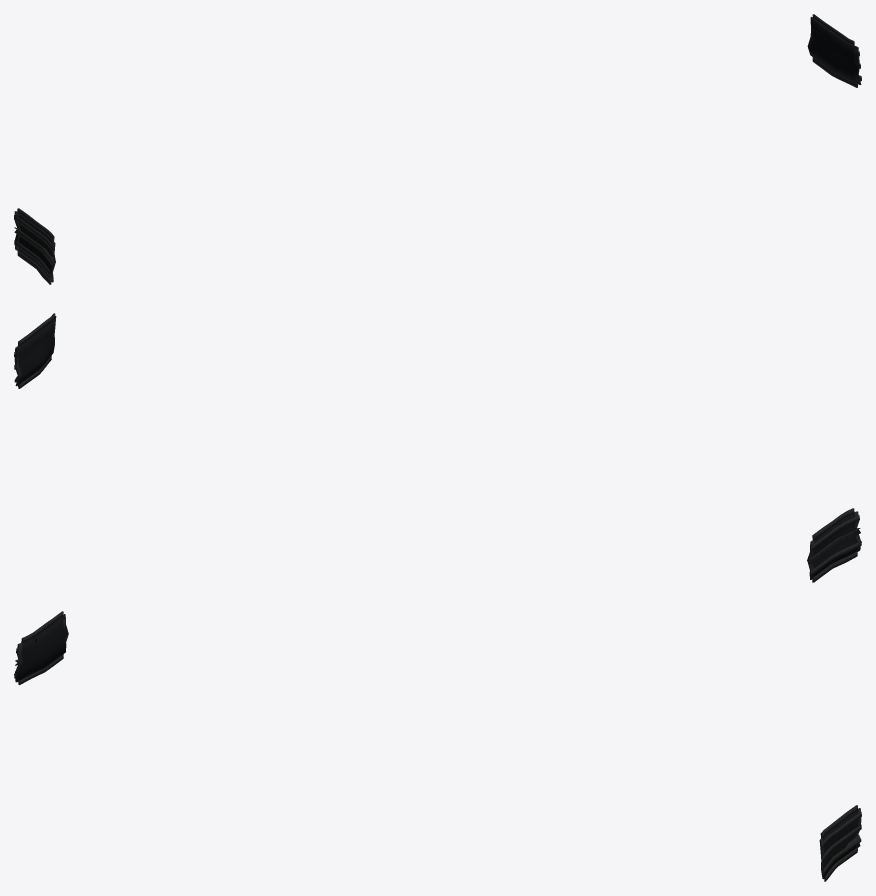
Rendered from DT48_fender_vents.glb.
3 views of the same model, one above another, from view 1: azimuth 30°, elevation 25°; view 2: azimuth 150°, elevation 25°; view 3: azimuth 330°, elevation 25° (orthographic).
Parts seen in each view (by area): view 1: MOD_NA_DT48_recess_L, MOD_NA_DT48_recess_R; view 2: MOD_NA_DT48_recess_L, MOD_NA_DT48_recess_R; view 3: MOD_NA_DT48_recess_R, MOD_NA_DT48_recess_L.
Part boxes in pixels (x1=…): MOD_NA_DT48_recess_L: x1=808, y1=17, x2=859, y2=84; MOD_NA_DT48_recess_R: x1=16, y1=211, x2=55, y2=281; MOD_NA_DT48_recess_L: x1=15, y1=316, x2=55, y2=385; MOD_NA_DT48_recess_R: x1=808, y1=513, x2=856, y2=576; MOD_NA_DT48_recess_R: x1=16, y1=614, x2=68, y2=682; MOD_NA_DT48_recess_L: x1=819, y1=811, x2=857, y2=875.
Bounding box in the file's own units: 1.68 × 0.0937 × 0.1594.
Materials: 2 (1 with a texture image).
